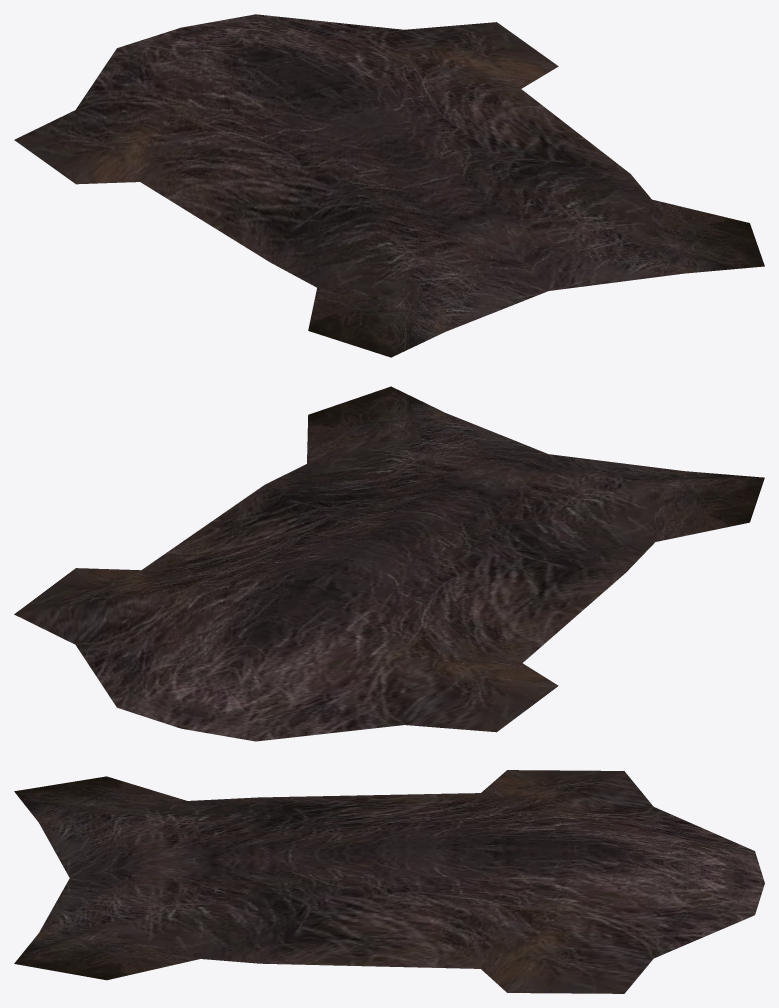
Rendered from NIEDZWIEDZ_FUR.glb.
3 renders of one model, top to bottom at view 1: azimuth 30°, elevation 25°; view 2: azimuth 150°, elevation 25°; view 3: azimuth 270°, elevation 25°, orthographic. The views are drawn at different scales.
Visible parts, largest first — view 1: NIEDZWIEDZ_FUR; view 2: NIEDZWIEDZ_FUR; view 3: NIEDZWIEDZ_FUR.
Part boxes in pixels (x1,y1,x2,y2): NIEDZWIEDZ_FUR: [14, 14, 764, 357]; NIEDZWIEDZ_FUR: [14, 386, 764, 741]; NIEDZWIEDZ_FUR: [14, 770, 764, 993].
Size of the model in its own units: 1.25 by 0.1031 by 1.78.
Materials: 1 (1 with a texture image).
